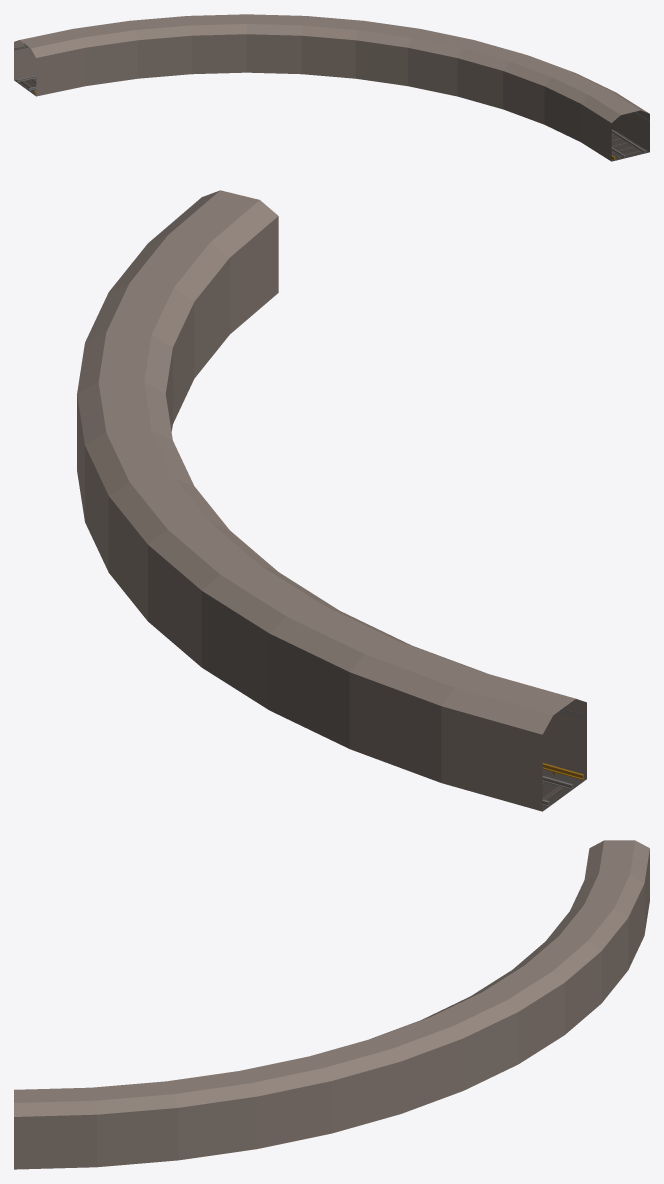
File: SM_Train_Track_Underground_Single_Tunnel_Corner_01.fbx
3 renders of one model, top to bottom at view 1: azimuth 30°, elevation 25°; view 2: azimuth 150°, elevation 25°; view 3: azimuth 270°, elevation 25°, orthographic. The views are drawn at different scales.
Parts seen in each view (by area): view 1: SM_Train_Track_Underground_Single_Tunnel_Corner_01; view 2: SM_Train_Track_Underground_Single_Tunnel_Corner_01; view 3: SM_Train_Track_Underground_Single_Tunnel_Corner_01.
Boxes of the visible parts, left/top/right/bottom form: SM_Train_Track_Underground_Single_Tunnel_Corner_01: left=14, top=14, right=649, bottom=161; SM_Train_Track_Underground_Single_Tunnel_Corner_01: left=77, top=190, right=586, bottom=811; SM_Train_Track_Underground_Single_Tunnel_Corner_01: left=14, top=840, right=649, bottom=1169.
Bounding box in the file's own units: 3677 × 385 × 3675.
